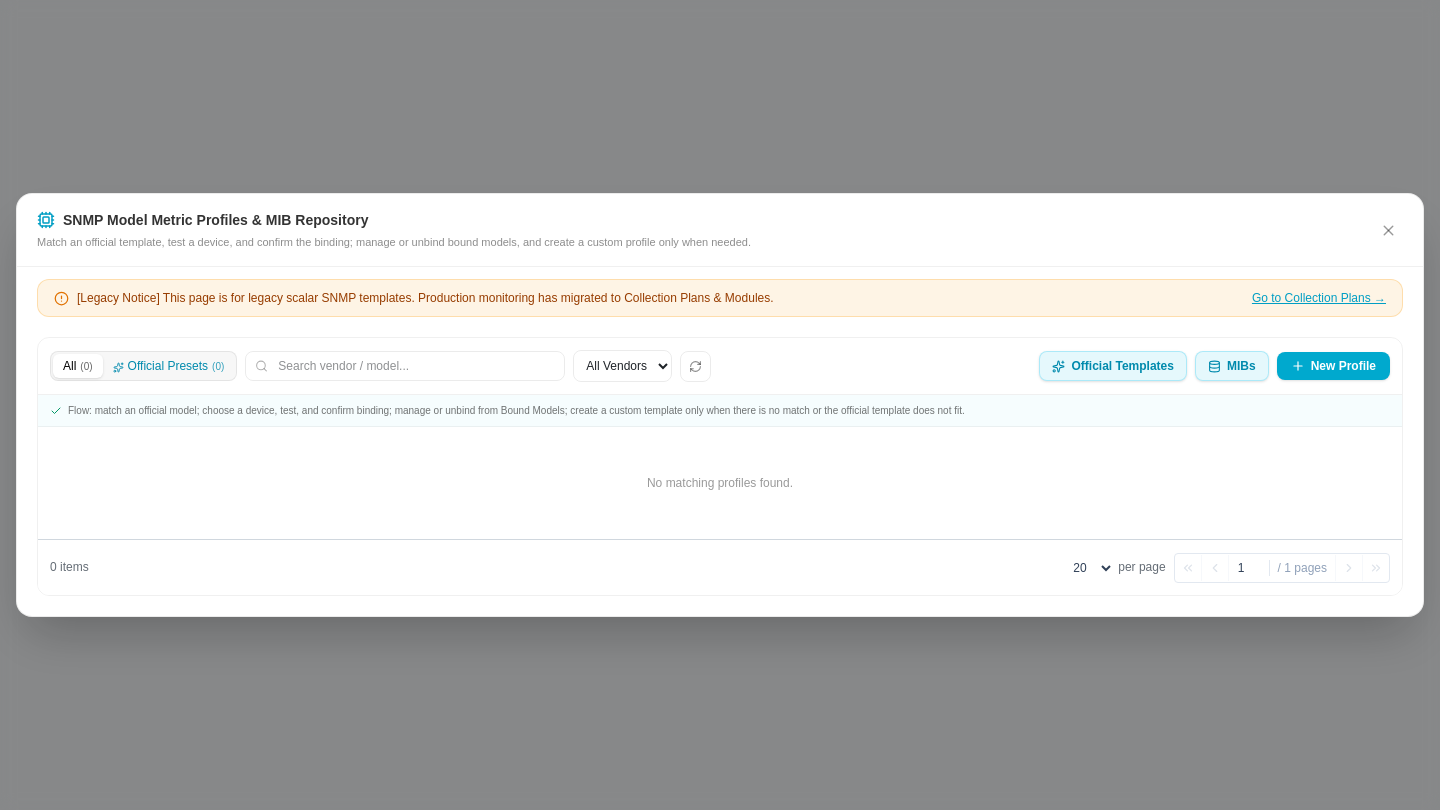
MetricOidProfilesModal editor › starts with only common metrics and keeps optional metrics behind Add metric
The width and height of the screenshot is (1440, 810).
Click the button "New Profile": click(1333, 366) [1277,352,1390,380]
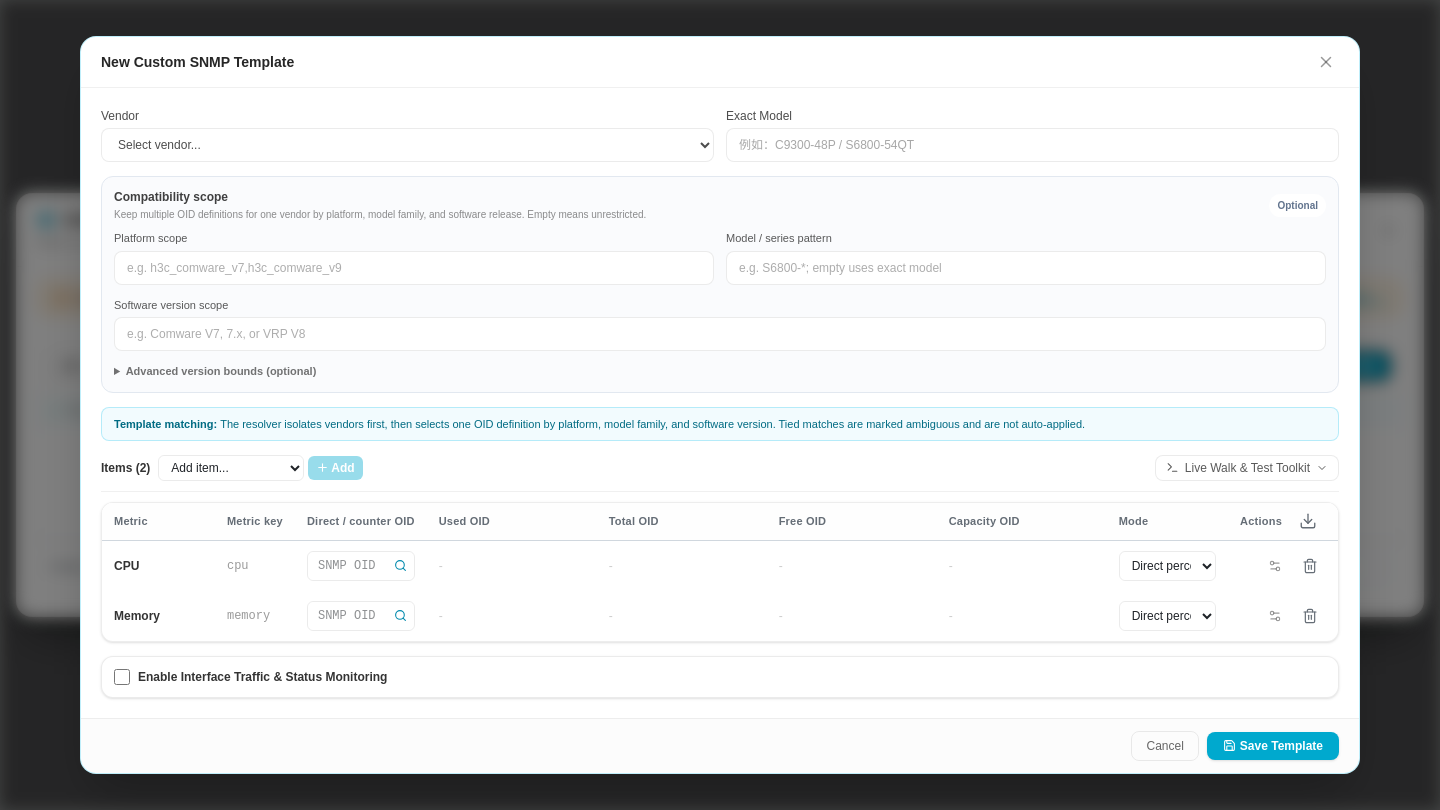
Now the number of rows is 3, box [102,503,1338,541]; [102,541,1338,591]; [102,591,1338,641]
Now the text "CPU" is shown, box [102,541,215,591]
Now the text "Memory" is shown, box [102,591,215,641]
Select "Temperature" in the dropdown named "Metric to add": (231, 468) [158,455,304,481]
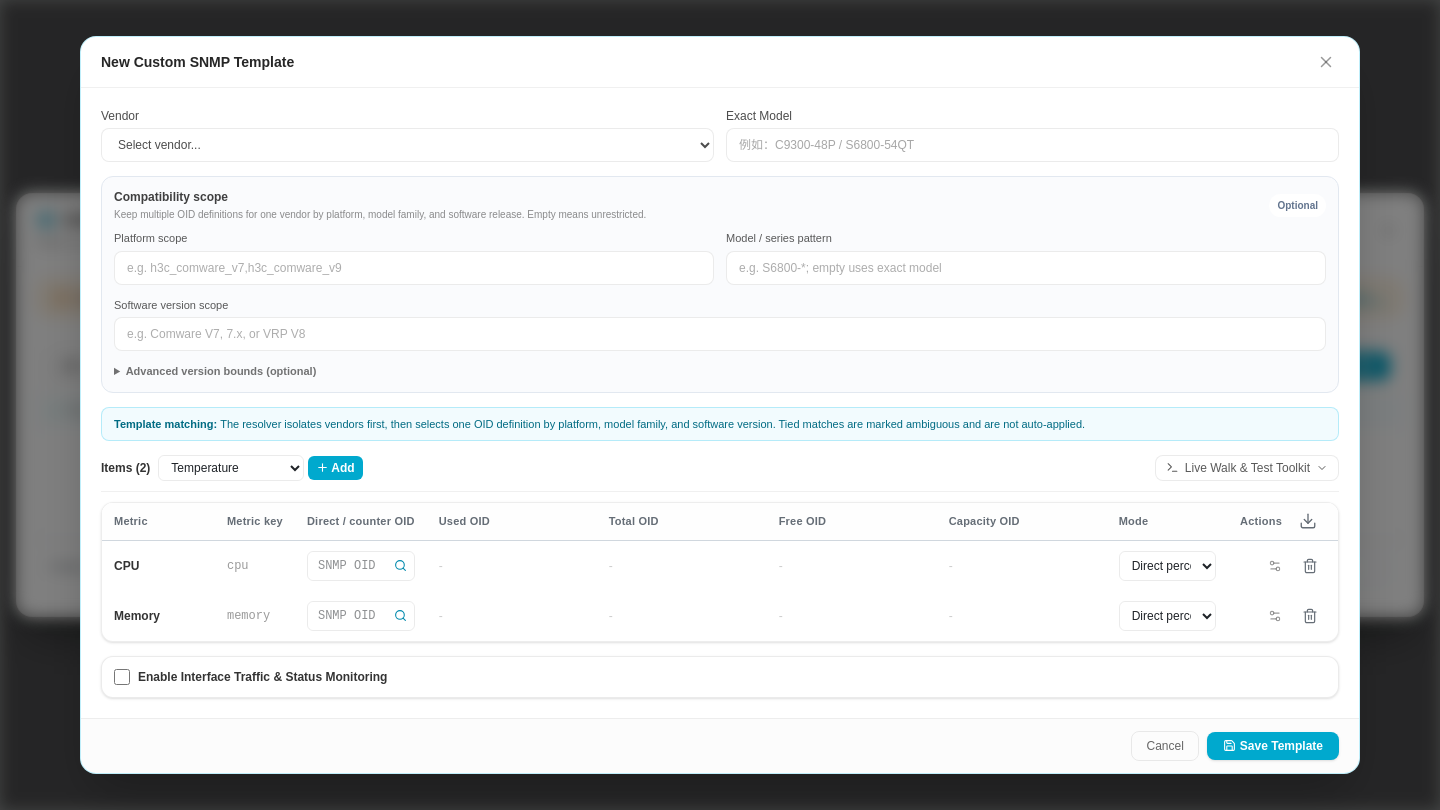
Click the button with aria-label "Add Metric": click(336, 468) [308,456,363,480]
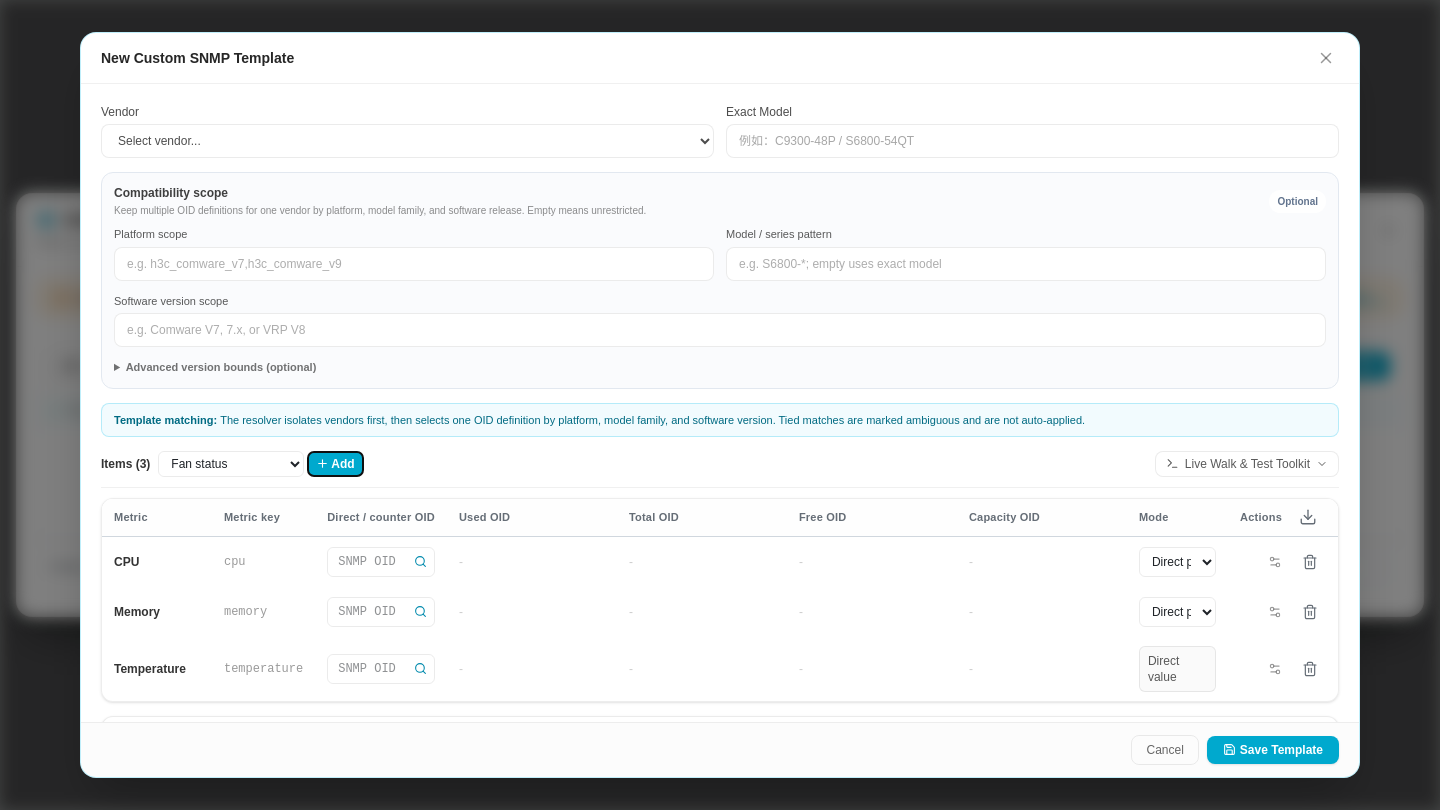
Now the number of rows is 4, box [102,499,1338,537]; [102,537,1338,587]; [102,587,1338,637]; [102,637,1338,701]
Now the text "Temperature" is shown, box [102,637,212,701]
